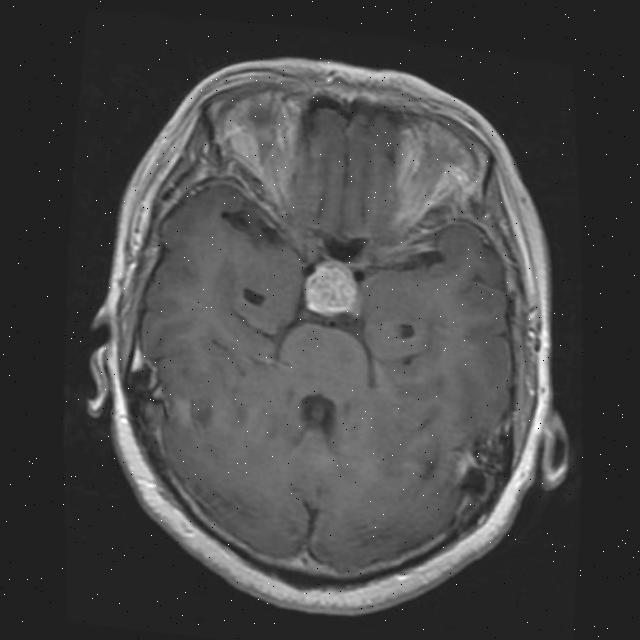Pituitary: (300, 255, 361, 318)
